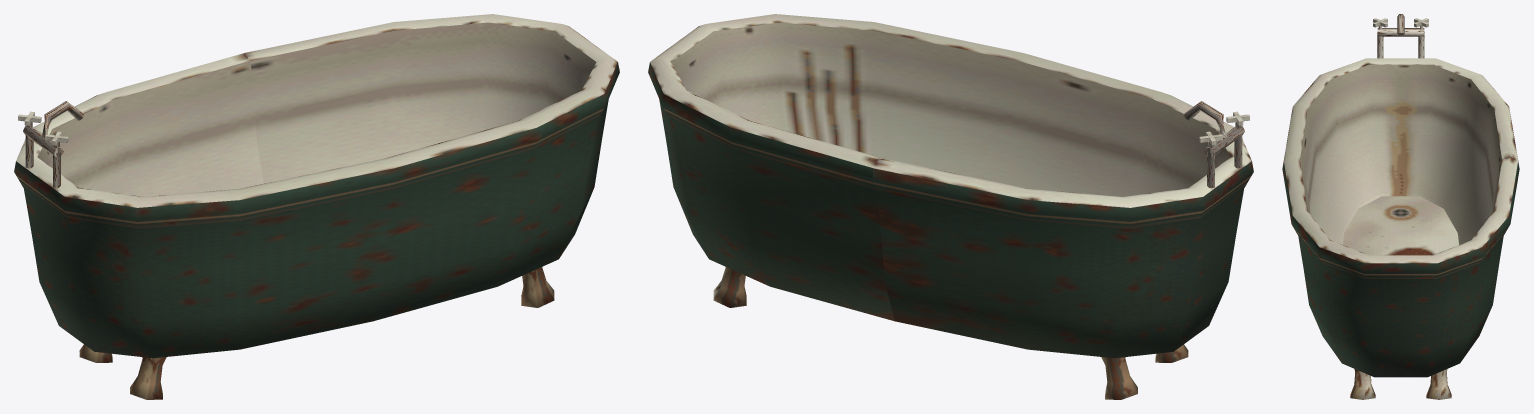
The model's file is bathtub.obj.
The picture shows the model from 3 angles, left to right: view 1: azimuth 30°, elevation 25°; view 2: azimuth 150°, elevation 25°; view 3: azimuth 270°, elevation 25°; orthographic projection. The views are drawn at different scales.
Parts seen in each view (by area): view 1: bathtub; view 2: bathtub; view 3: bathtub.
Boxes of the visible parts, x1=… form: bathtub: x1=14, y1=14, x2=619, y2=399; bathtub: x1=648, y1=14, x2=1253, y2=399; bathtub: x1=1282, y1=14, x2=1519, y2=399.
Bounding box in the file's own units: 1.67 × 0.8273 × 0.81.
1 material, 1 textured.
